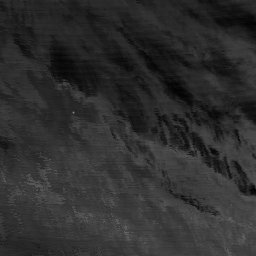Target: (70, 110, 76, 115)
